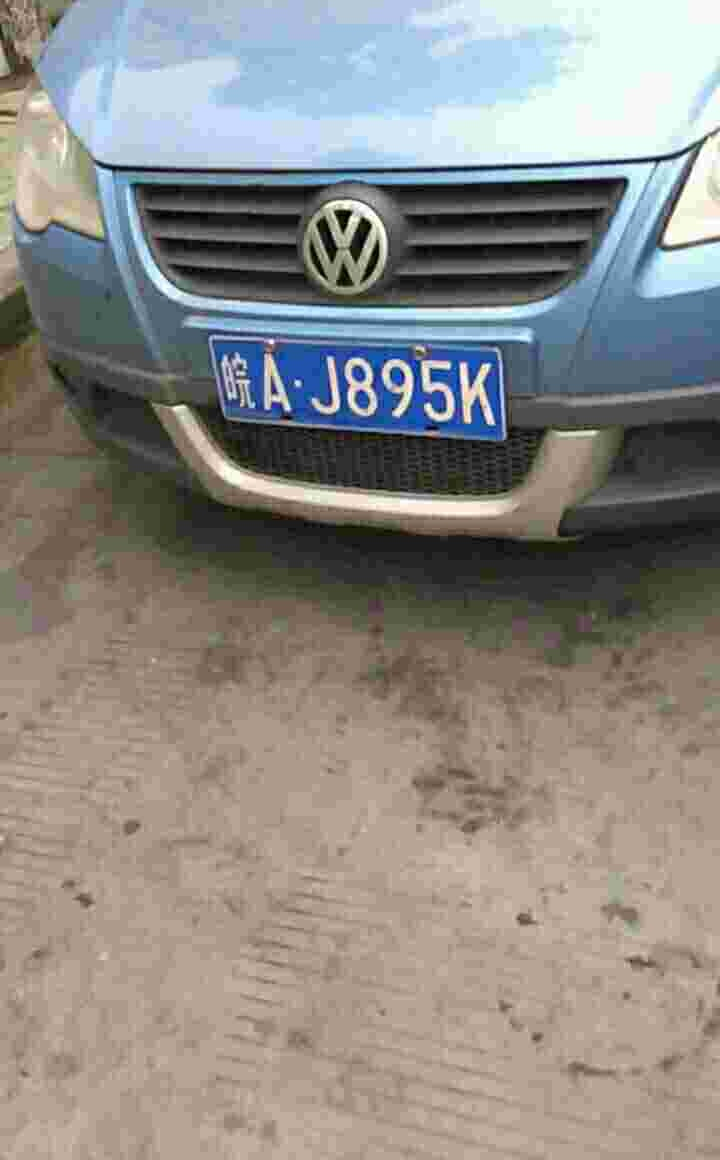license_plate: (196, 344, 520, 440)
